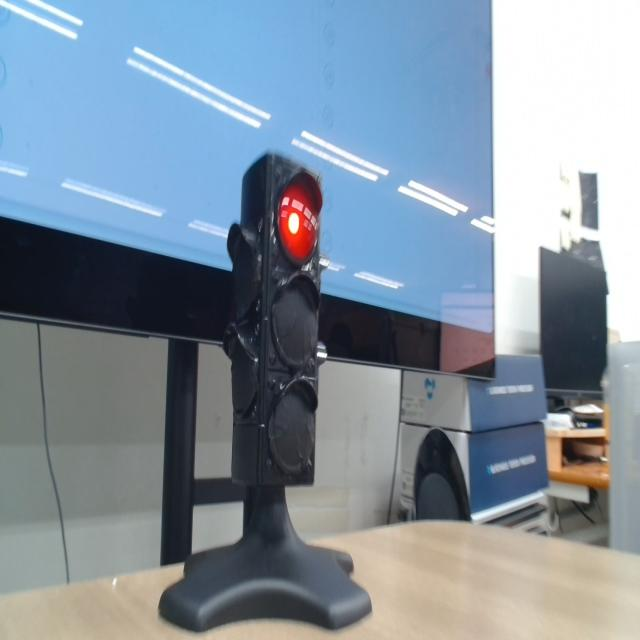red_light: (278, 182, 319, 262)
